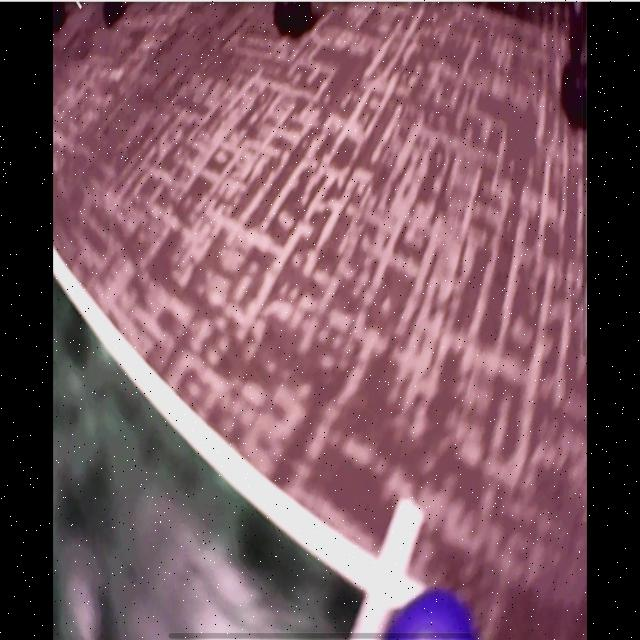ball: (388, 591, 475, 640)
